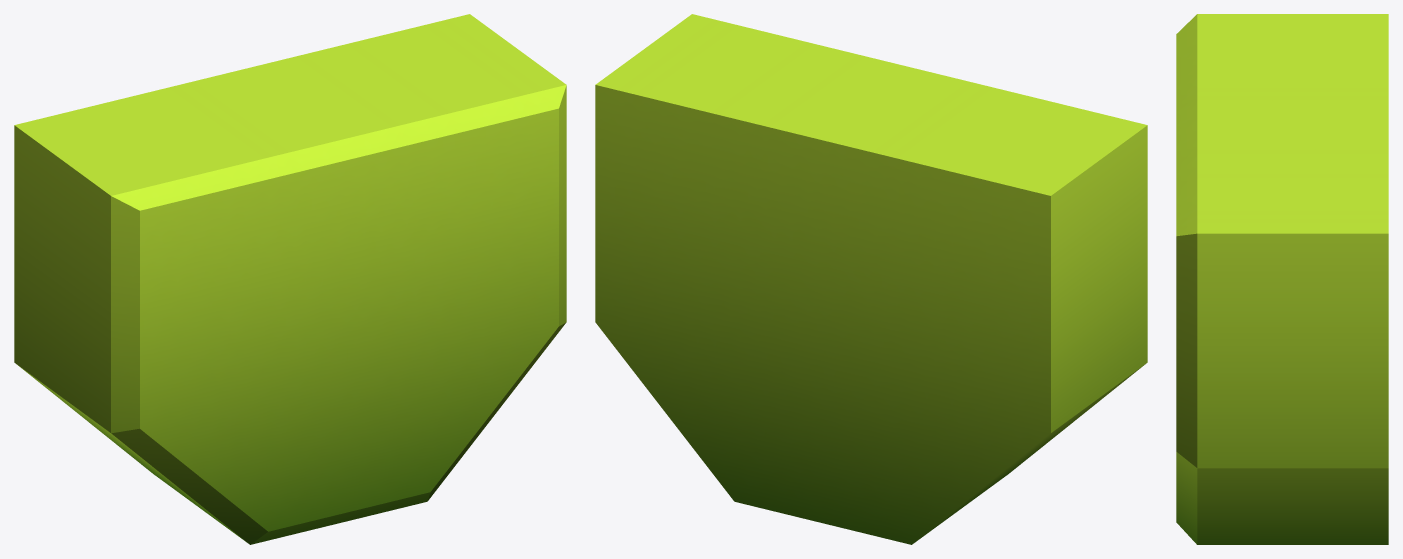
Rendered from switch_004.fbx.
The picture shows the model from 3 angles, left to right: view 1: azimuth 30°, elevation 25°; view 2: azimuth 150°, elevation 25°; view 3: azimuth 270°, elevation 25°; orthographic projection.
Parts seen in each view (by area): view 1: switch.004; view 2: switch.004; view 3: switch.004.
Part boxes in pixels (x1,y1,x2,y2): switch.004: (14, 14, 566, 544); switch.004: (595, 14, 1147, 544); switch.004: (1176, 14, 1388, 544).
Bounding box in the file's own units: 33.36 × 26.8 × 13.61.
